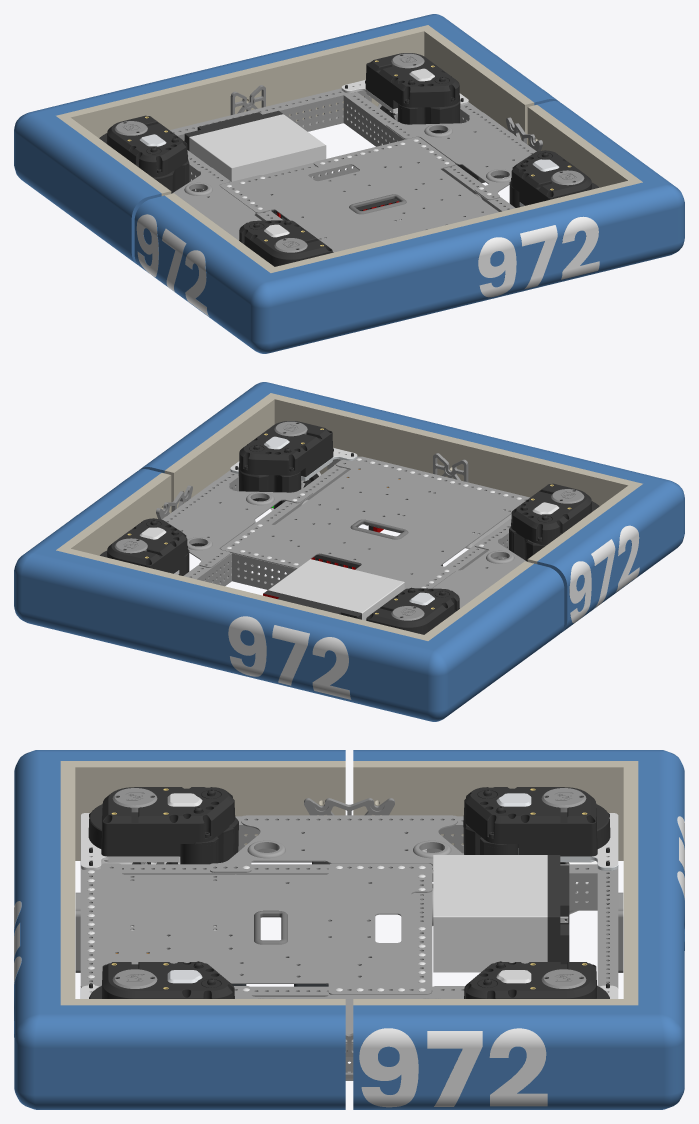
The picture shows the model from 3 angles, top to bottom: view 1: azimuth 30°, elevation 25°; view 2: azimuth 150°, elevation 25°; view 3: azimuth 270°, elevation 25°; orthographic projection. The views are drawn at different scales.
Visible parts, largest first — view 1: Front Bumper, Back Bumper, Brainpan, SDS MK5n Top Assembly (A) (×4), Back Wood M, Robot Battery, Left Side Plate, Back Wood L, Front Wood L, Left Drive Rail, Back Drive Rail, Right Side Plate (+8 smaller); view 2: Back Bumper, Brainpan, Front Bumper, SDS MK5n Top Assembly (A) (×4), Front Wood M, Robot Battery, Left Side Plate, Front Wood L, Back Wood L, Right Side Plate, Back Wood M, Left Drive Rail (+8 smaller); view 3: Front Bumper, Back Bumper, Brainpan, SDS MK5n Top Assembly (A) (×4), Robot Battery, Back Wood R, Front Wood R, Right Side Plate, Front Wood M, Back Wood M, Right Inner Rail, Back Drive Rail (+9 smaller).
Part boxes in pixels (left/top/right/bottom): Front Bumper: left=134, top=101, right=684, bottom=353; Back Bumper: left=14, top=14, right=559, bottom=264; Brainpan: left=220, top=137, right=498, bottom=252; SDS MK5n Top Assembly (A) (×4): left=99, top=53, right=598, bottom=266; Back Wood M: left=56, top=25, right=433, bottom=140; Robot Battery: left=184, top=110, right=326, bottom=181; Left Side Plate: left=386, top=112, right=536, bottom=200; Back Wood L: left=424, top=29, right=534, bottom=144; Front Wood L: left=527, top=105, right=637, bottom=187; Left Drive Rail: left=343, top=92, right=515, bottom=211; Back Drive Rail: left=170, top=88, right=371, bottom=140; Right Side Plate: left=171, top=167, right=261, bottom=240; Back Bumper: left=14, top=469, right=564, bottom=721; Brainpan: left=220, top=456, right=529, bottom=589; Front Bumper: left=139, top=382, right=684, bottom=632; SDS MK5n Top Assembly (A) (×4): left=100, top=421, right=599, bottom=634; Front Wood M: left=265, top=393, right=642, bottom=505; Robot Battery: left=263, top=559, right=404, bottom=620; Left Side Plate: left=162, top=480, right=312, bottom=567; Front Wood L: left=164, top=397, right=274, bottom=512; Back Wood L: left=61, top=473, right=171, bottom=555; Right Side Plate: left=432, top=535, right=527, bottom=608; Back Wood M: left=56, top=546, right=433, bottom=640; Left Drive Rail: left=183, top=463, right=349, bottom=586; Front Bumper: left=14, top=750, right=345, bottom=1109; Back Bumper: left=353, top=750, right=684, bottom=1109; Brainpan: left=80, top=863, right=432, bottom=994; SDS MK5n Top Assembly (A) (×4): left=80, top=787, right=618, bottom=998; Robot Battery: left=433, top=855, right=569, bottom=972; Back Wood R: left=353, top=761, right=623, bottom=860; Front Wood R: left=75, top=761, right=345, bottom=860; Right Side Plate: left=210, top=815, right=463, bottom=872; Front Wood M: left=60, top=761, right=75, bottom=1005; Back Wood M: left=623, top=761, right=638, bottom=1005; Right Inner Rail: left=101, top=864, right=597, bottom=910; Back Drive Rail: left=597, top=868, right=618, bottom=988.
Size of the model in its own units: 0.8244 by 0.1586 by 0.8244.
